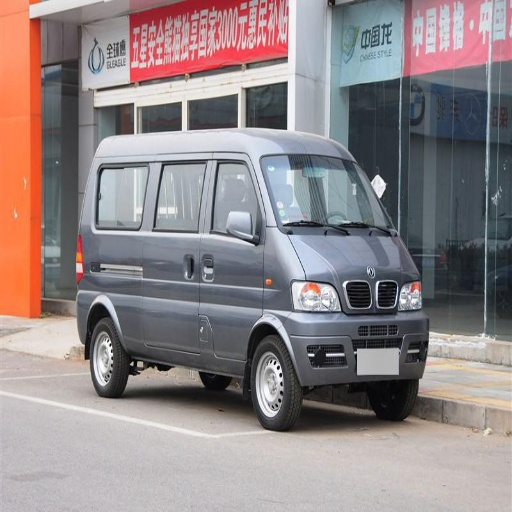back_right_door: (100, 156, 212, 344)
front_bumper: (287, 281, 428, 386)
front_right_door: (191, 156, 264, 359)
front_right_light: (295, 281, 338, 312)
hood: (290, 228, 416, 284)
